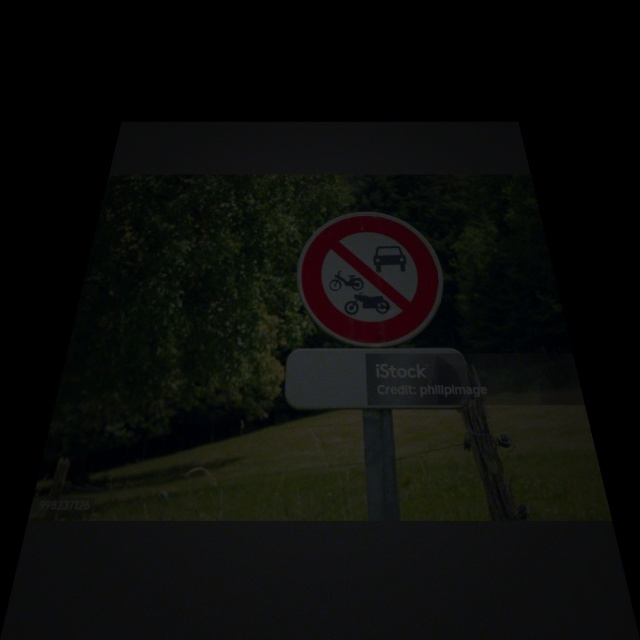All_Motor_Vehicles_Prohibited: (295, 210, 448, 347)
